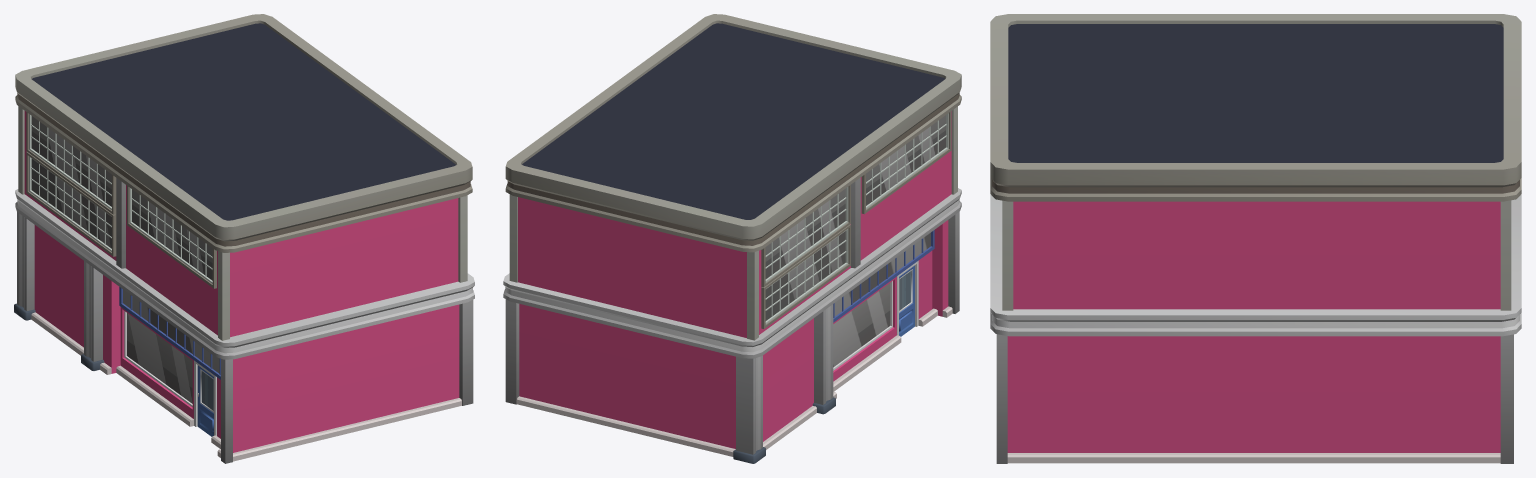
The model's file is Building_11_3_C.glb.
3 views of the same model, side by side, from view 1: azimuth 30°, elevation 25°; view 2: azimuth 150°, elevation 25°; view 3: azimuth 270°, elevation 25° (orthographic). The views are drawn at different scales.
Visible parts, largest first — view 1: Building_11_3_C; view 2: Building_11_3_C; view 3: Building_11_3_C.
Boxes of the visible parts, x1,y1,x2,y2 form: Building_11_3_C: [14, 14, 474, 463]; Building_11_3_C: [503, 14, 961, 463]; Building_11_3_C: [990, 14, 1521, 463].
Bounding box in the file's own units: 8.14 × 7.15 × 11.63.
3 materials, 3 textured.
